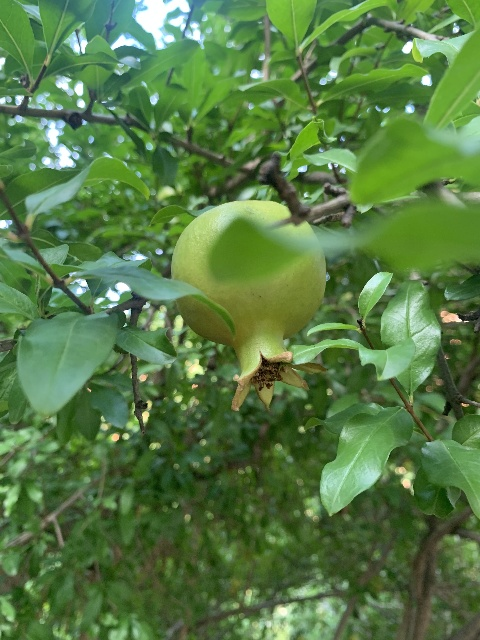mid-growth: (170, 199, 329, 411)
